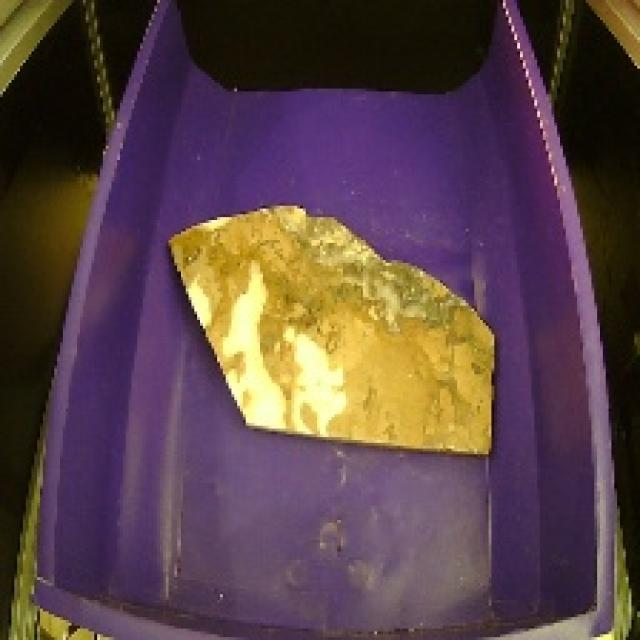china: (156, 193, 507, 466)
